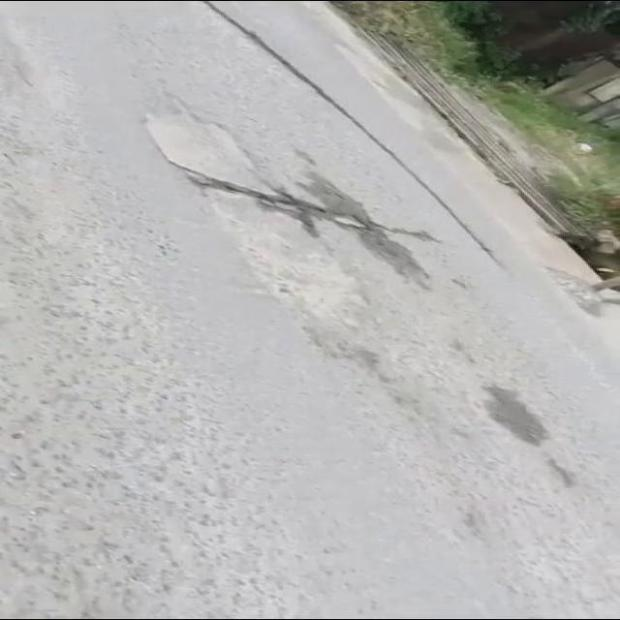lubang: (168, 159, 419, 236)
